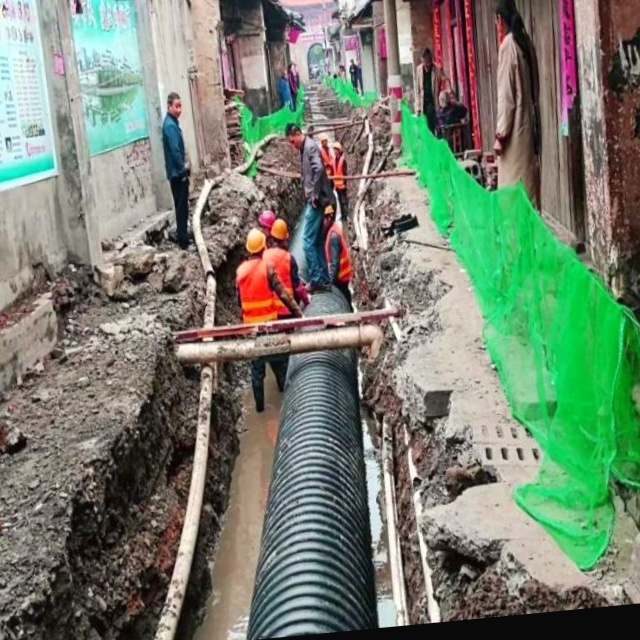Con_Casco: (244, 227, 267, 259), (270, 219, 289, 245)
Con_Chaleco: (237, 260, 281, 326), (322, 225, 352, 282)
Sin_Casco_Mascarrilla: (491, 0, 521, 39), (284, 120, 304, 151), (165, 90, 183, 117)
Sin_Chaleco: (159, 118, 192, 179)
